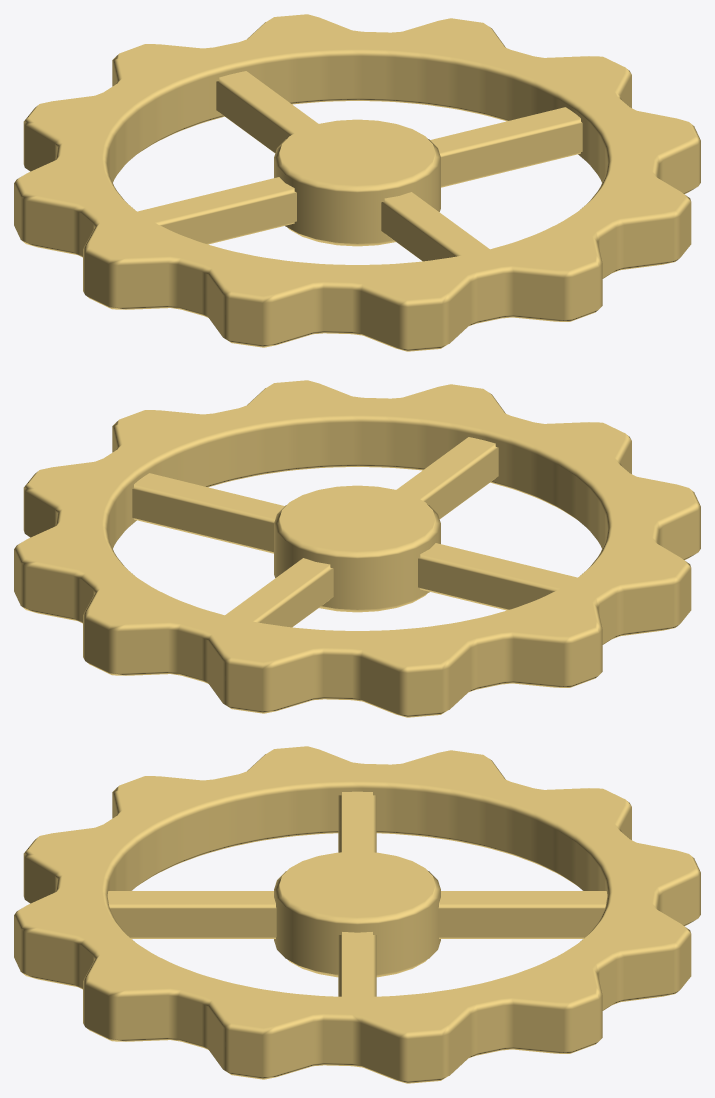
File: boss_gear_medium.glb
3 views of the same model, one above another, from view 1: azimuth 30°, elevation 25°; view 2: azimuth 150°, elevation 25°; view 3: azimuth 270°, elevation 25° (orthographic).
Parts seen in each view (by area): view 1: GearMedium, GearMedium_Hub; view 2: GearMedium, GearMedium_Hub; view 3: GearMedium, GearMedium_Hub.
Part boxes in pixels (x1=…): GearMedium: x1=14, y1=14, x2=700, y2=351; GearMedium_Hub: x1=274, y1=119, x2=440, y2=246; GearMedium: x1=14, y1=380, x2=700, y2=717; GearMedium_Hub: x1=274, y1=485, x2=440, y2=612; GearMedium: x1=14, y1=746, x2=700, y2=1083; GearMedium_Hub: x1=274, y1=851, x2=440, y2=977.
Bounding box in the file's own units: 3.85 × 0.3776 × 3.85.
